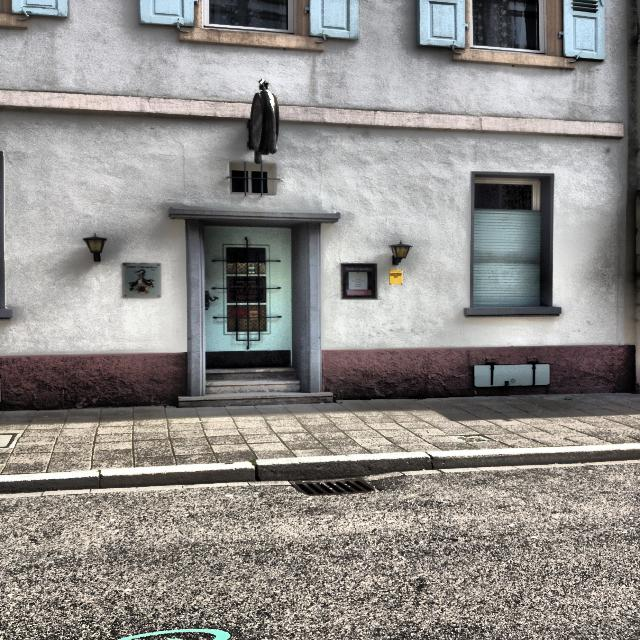escada: (202, 370, 302, 404)
